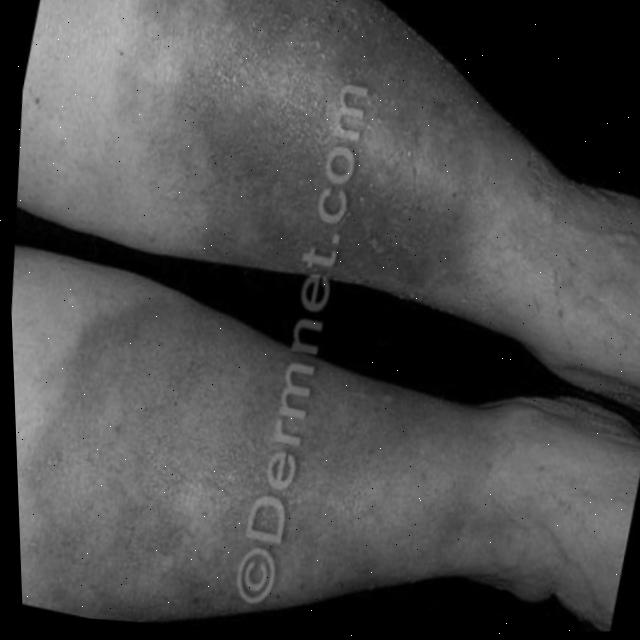Eczema: (14, 365, 484, 640), (111, 0, 513, 293)
